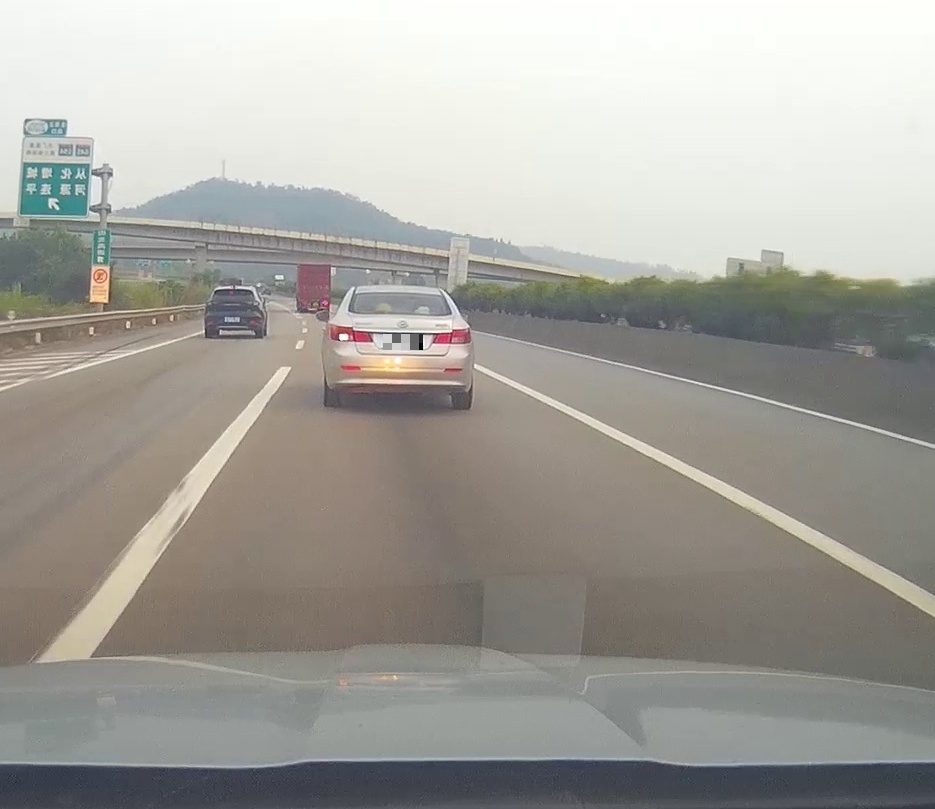L_light: (327, 323, 373, 343), (206, 301, 219, 306)
R_light: (432, 327, 472, 344), (244, 301, 259, 306)
T_light: (391, 293, 408, 297), (229, 289, 237, 291)
day-left: (321, 285, 473, 411)
day-no: (203, 286, 265, 338)
plate_1: (383, 334, 423, 350)
